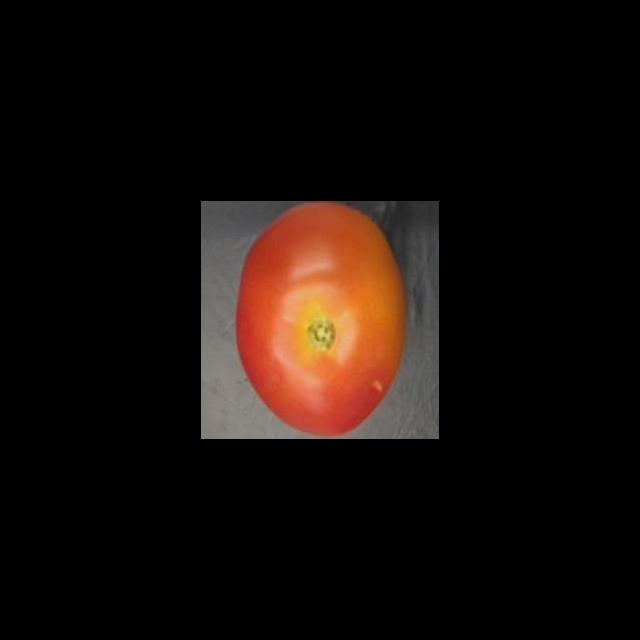tomato: (234, 202, 408, 437)
